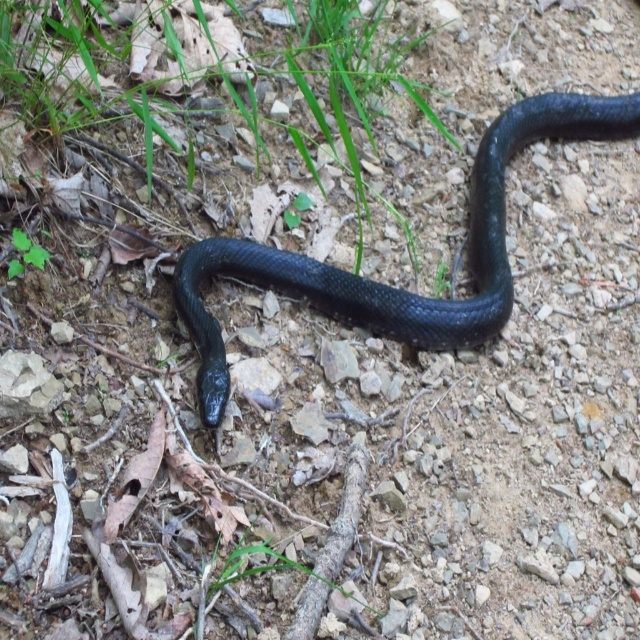Snake: (172, 90, 640, 427)
